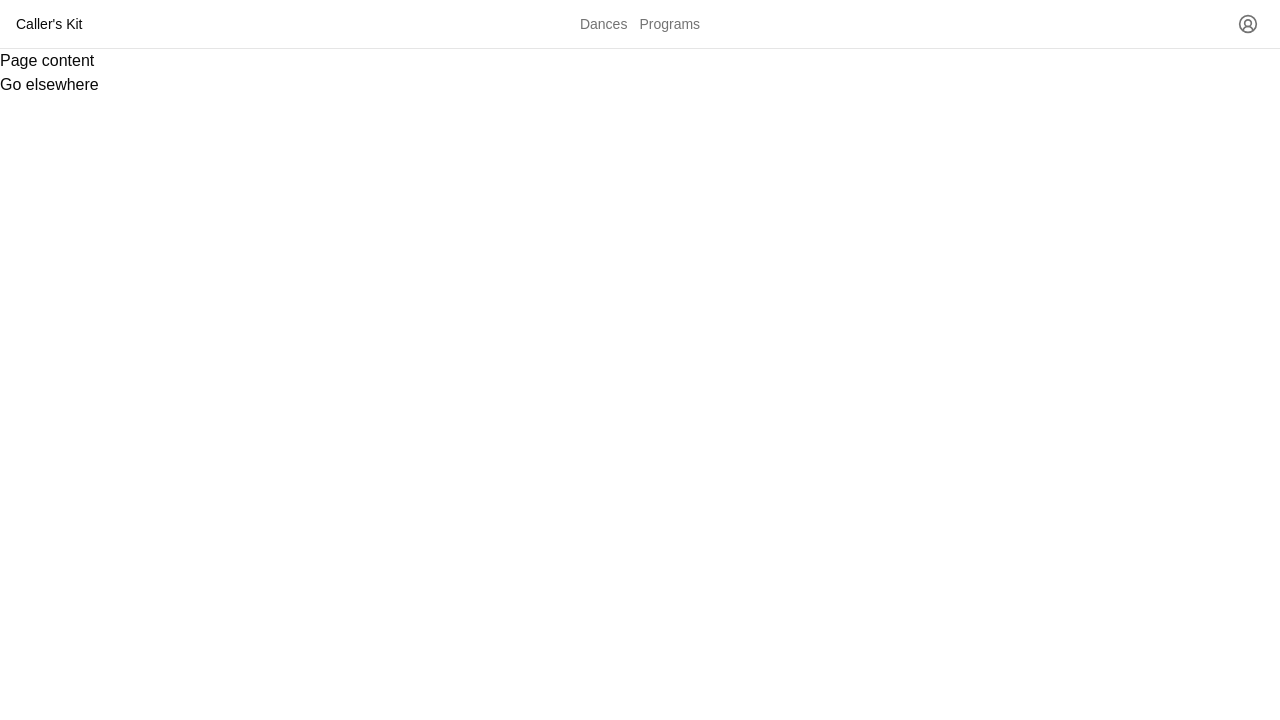
Test: AppShell › blocks in-app navigation and asks for confirmation while a rich-text field is unsaved
Step 1. Click the link "Go elsewhere" → (49,84), box [0,76,99,93]
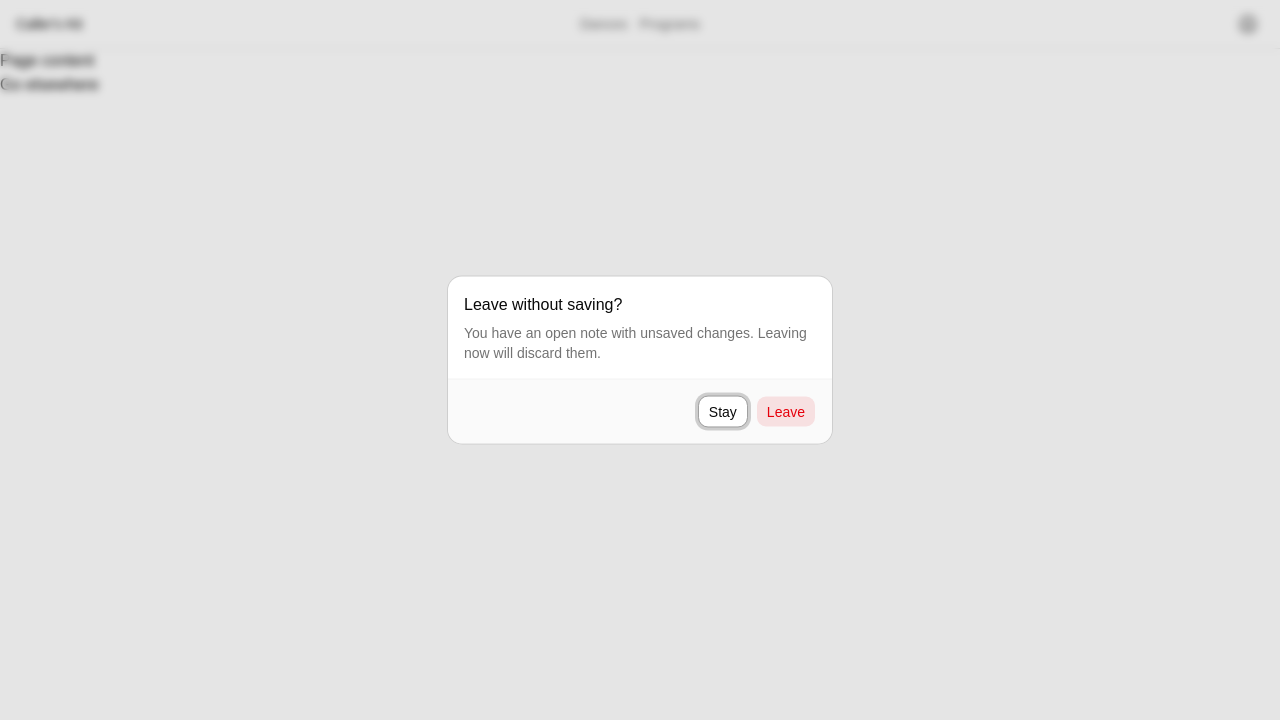
Expected: the text "Page content" is shown, [0,52,94,69]
Result: the heading "Leave without saving?" is shown at [464,292,622,316]
